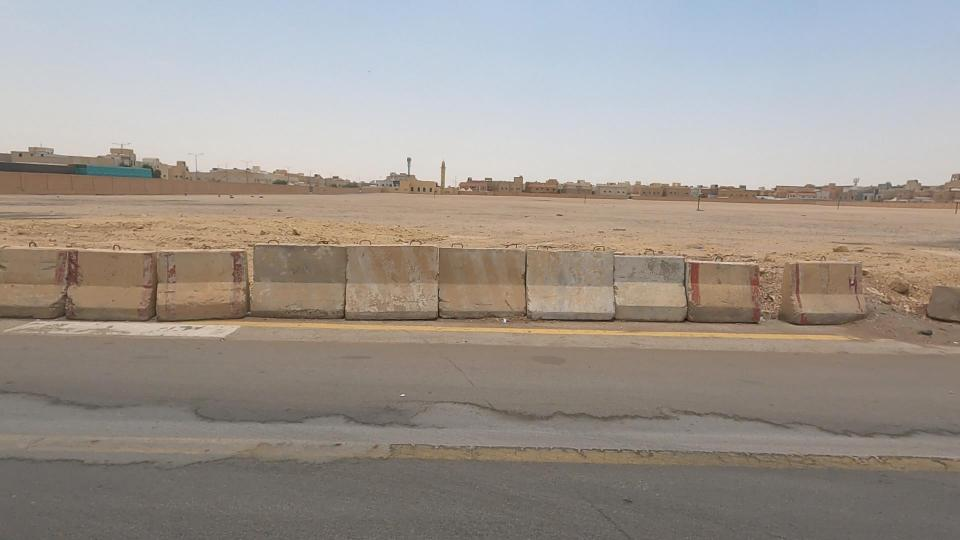CONSTRUCTION_ROAD: (359, 178, 913, 364), (10, 181, 519, 363)
